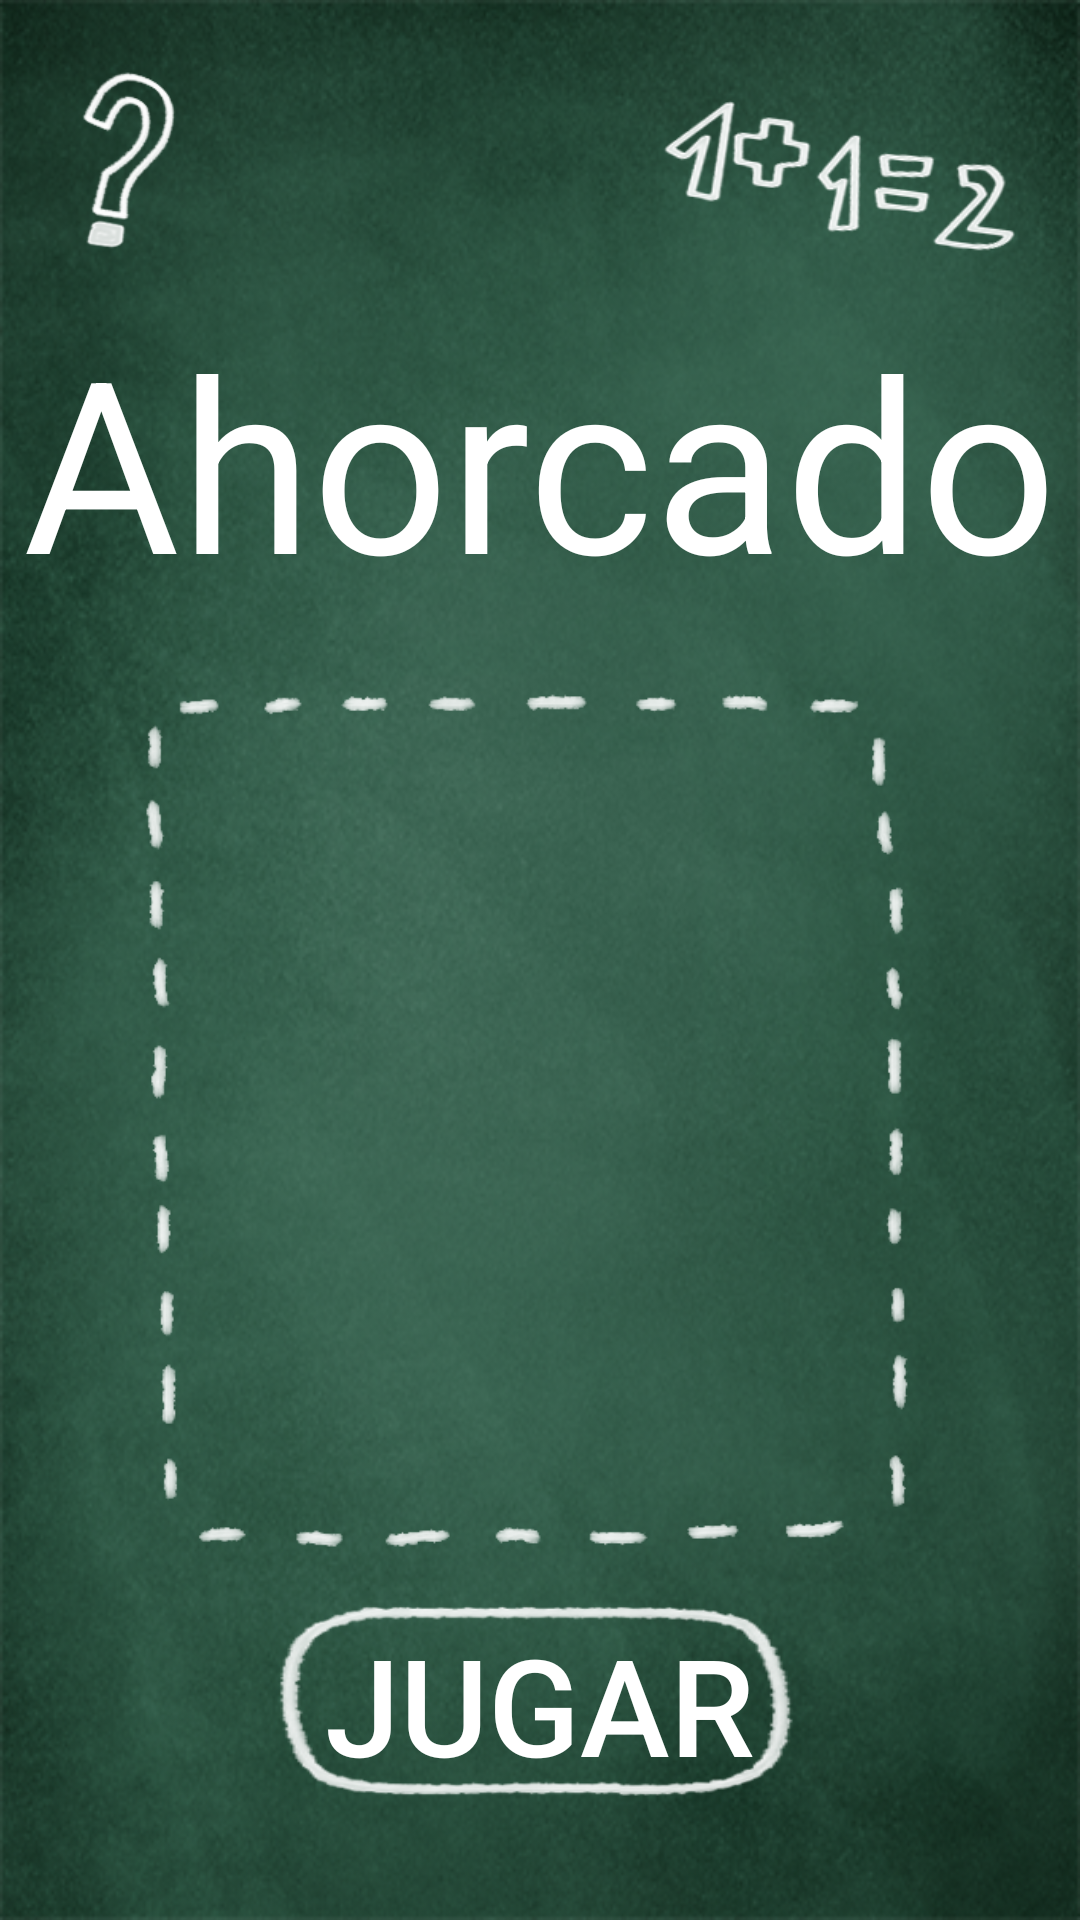

Icon bounding boxes for this 1080*1920 phone screenshot, format (left=x1, top=y1, right=x2, bottom=y2):
question: (left=83, top=72, right=188, bottom=248)
